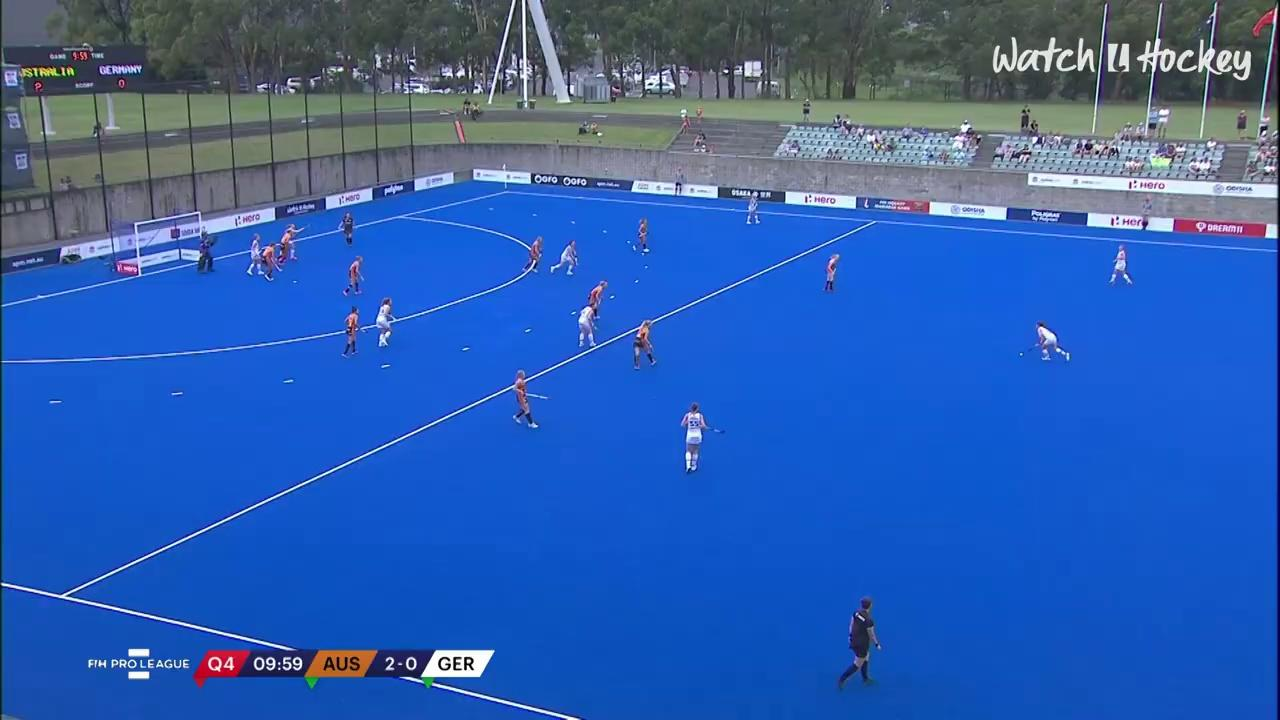ball: (1015, 344, 1027, 363)
